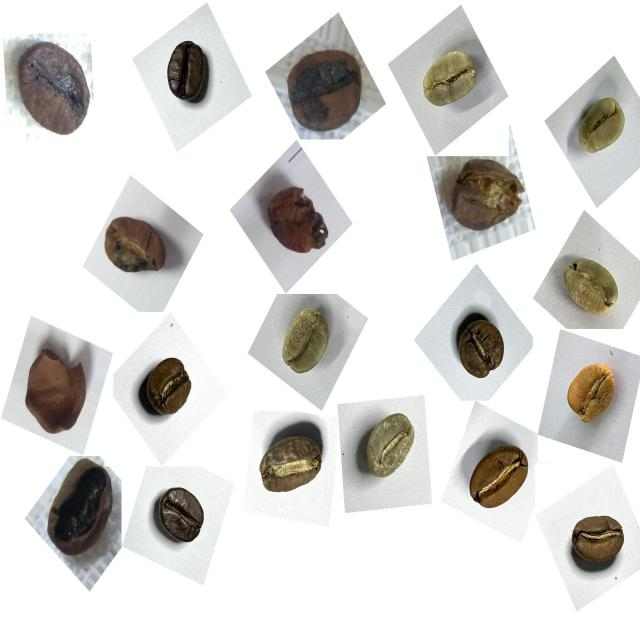bad: (10, 32, 103, 149), (36, 453, 123, 570), (281, 36, 375, 142), (15, 331, 100, 446), (438, 154, 529, 246), (258, 173, 337, 265), (97, 204, 175, 286)
dark: (153, 30, 219, 115), (148, 474, 215, 555)
green: (353, 400, 427, 496), (412, 36, 487, 122), (272, 300, 342, 389), (556, 249, 631, 329), (567, 88, 635, 170)
light: (558, 354, 624, 438)
medium: (460, 435, 538, 525), (258, 424, 331, 504), (564, 501, 634, 581), (448, 309, 516, 390), (137, 350, 202, 429)
